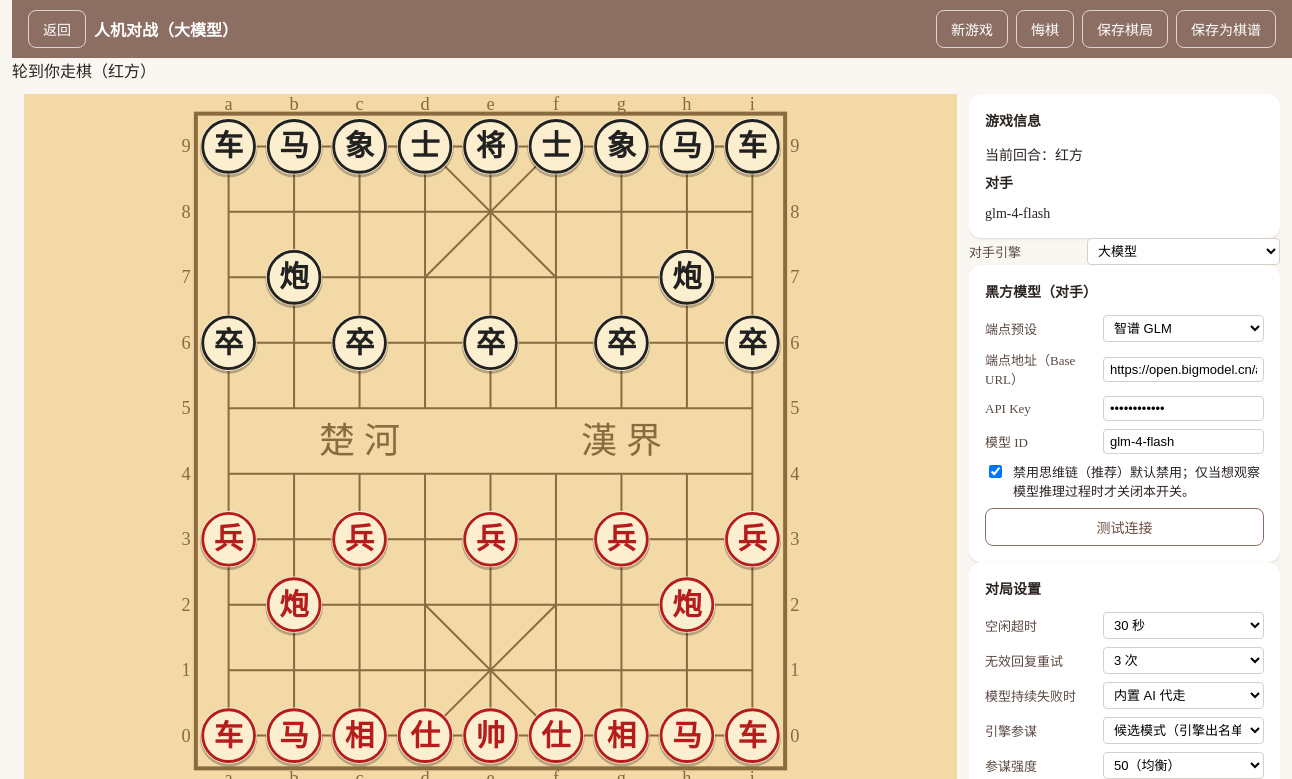
人机对战（大模型）页（08 §3.3） › 02 已保存配置回显（掩码 Key/模型 ID）；测试连接返回结果
Expected: the element with test id "llm-config-card" is shown, [969,265,1280,562]
Expected: the text with test id "llm-display-name" reads "glm-4-flash", [985,206,1050,221]
Click the button with test id "llm-test-connection" at (1124, 527), box [985,508,1264,546]
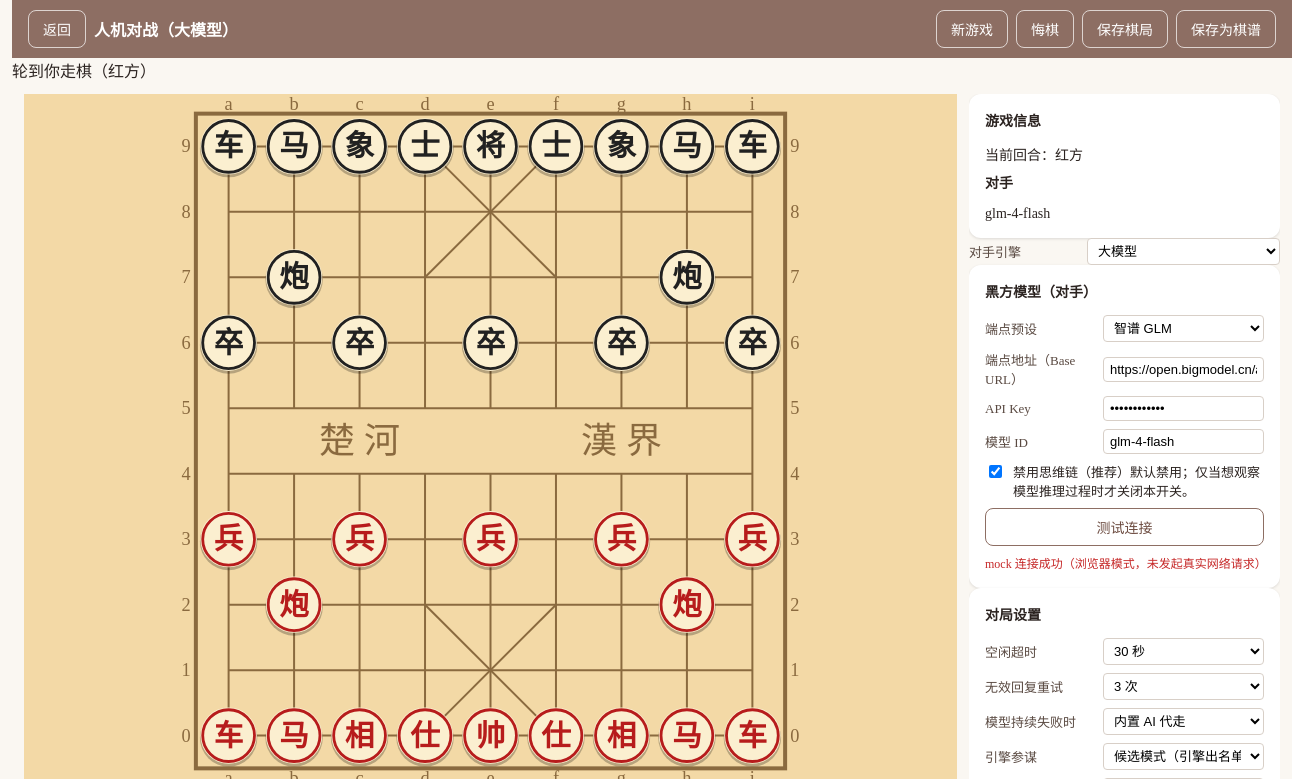
Expected: the message with test id "llm-test-result" shows "mock 连接成功", [985,557,1267,571]
